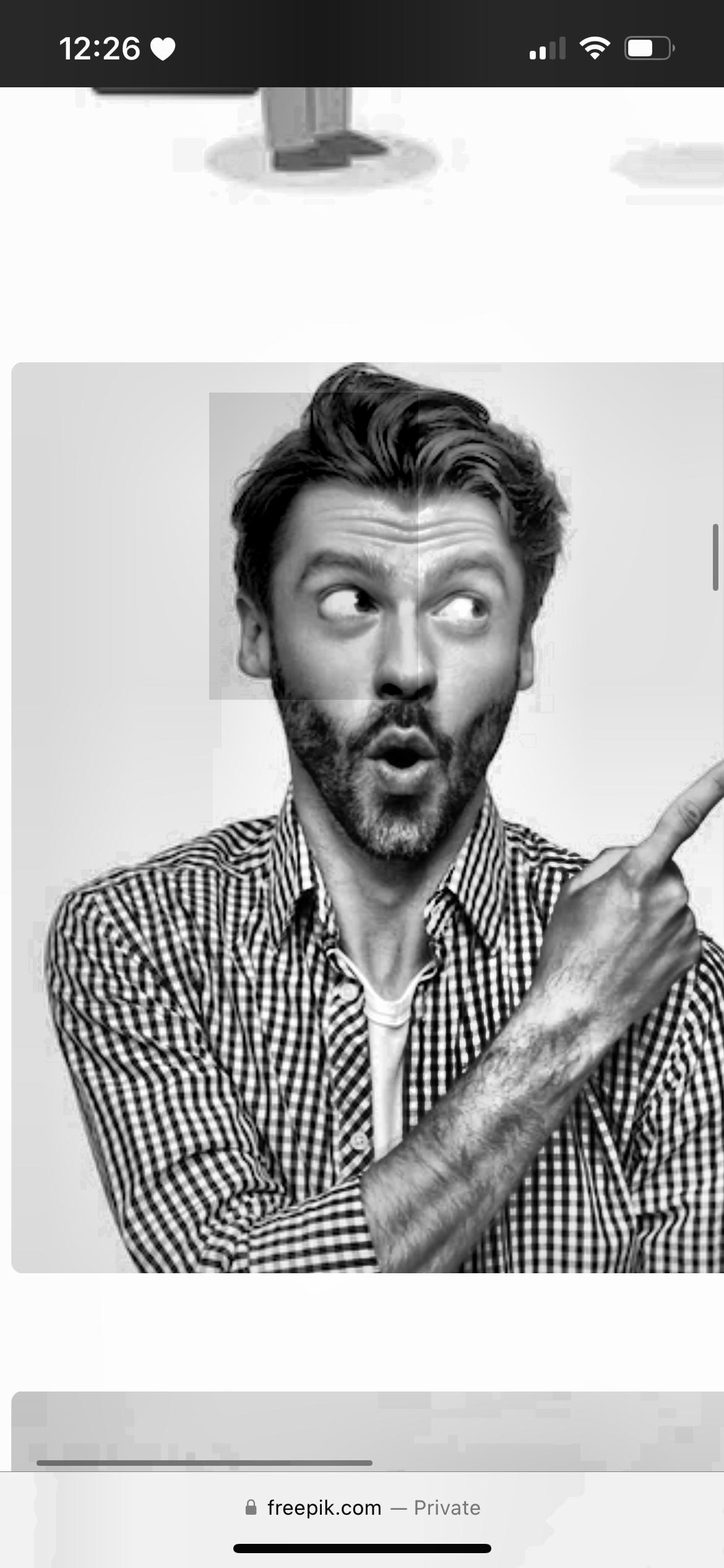surprised: (258, 485, 518, 865)
